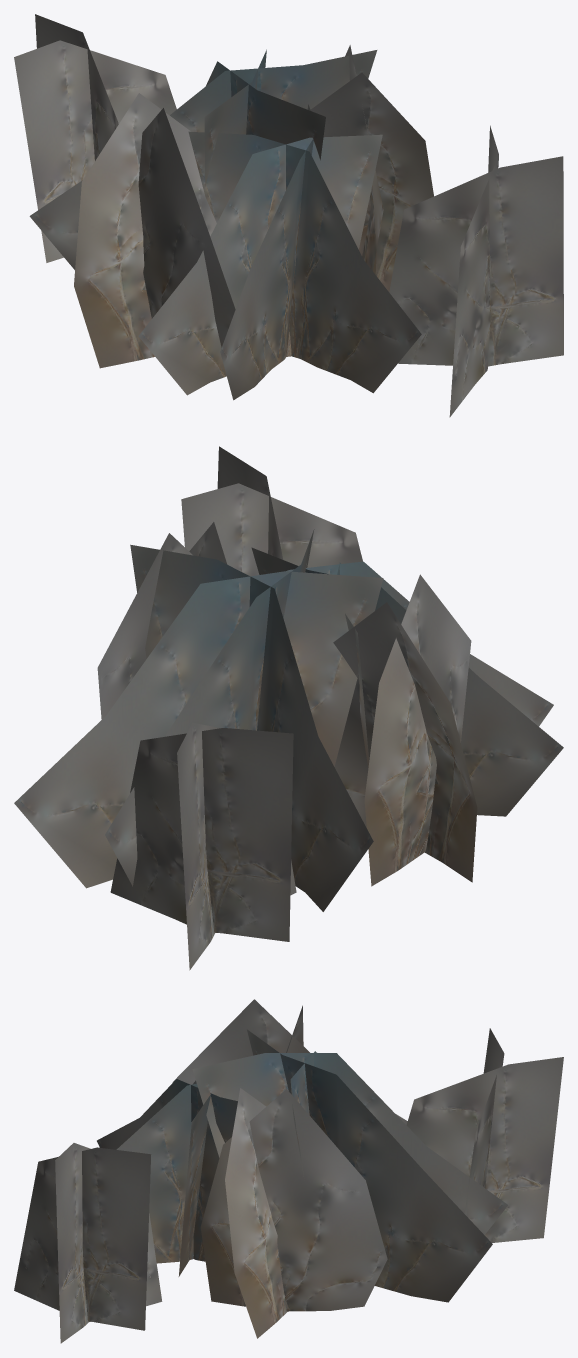
The model's file is sm_DryGrass_01_03.fbx.
The picture shows the model from 3 angles, top to bottom: view 1: azimuth 30°, elevation 25°; view 2: azimuth 150°, elevation 25°; view 3: azimuth 270°, elevation 25°; orthographic projection. The views are drawn at different scales.
Parts seen in each view (by area): view 1: sm_DryGrass_01_03_LOD0; view 2: sm_DryGrass_01_03_LOD0; view 3: sm_DryGrass_01_03_LOD0.
Boxes of the visible parts, x1,y1,x2,y2 form: sm_DryGrass_01_03_LOD0: [14, 14, 563, 417]; sm_DryGrass_01_03_LOD0: [14, 446, 563, 970]; sm_DryGrass_01_03_LOD0: [14, 999, 563, 1343].
Size of the model in its own units: 82.41 by 118 by 54.91.
